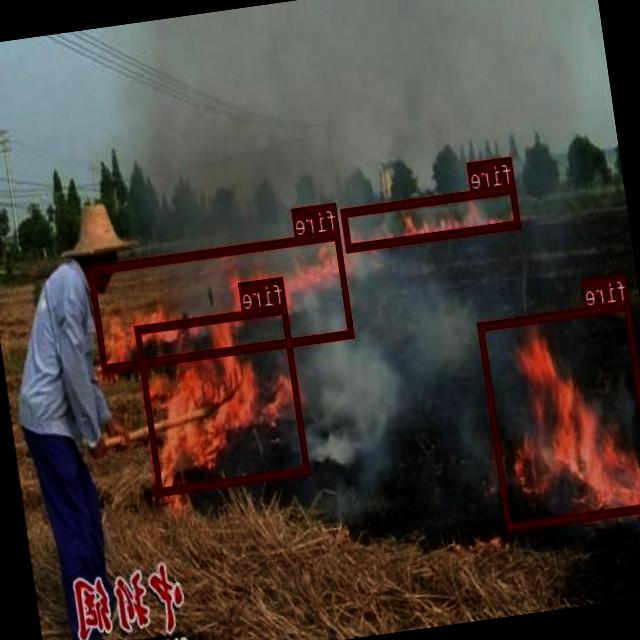fire: (89, 230, 356, 372), (478, 300, 640, 529), (136, 303, 311, 494), (342, 184, 522, 251)
